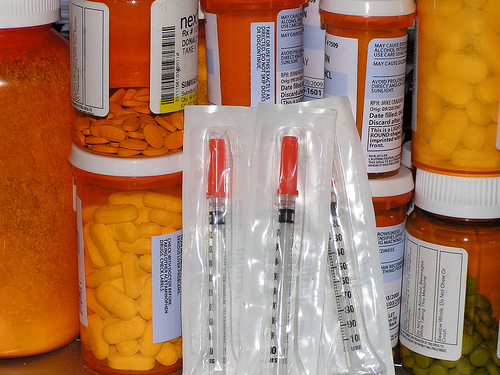pill bottle: (68, 146, 181, 373), (321, 1, 415, 181), (203, 1, 306, 108)
